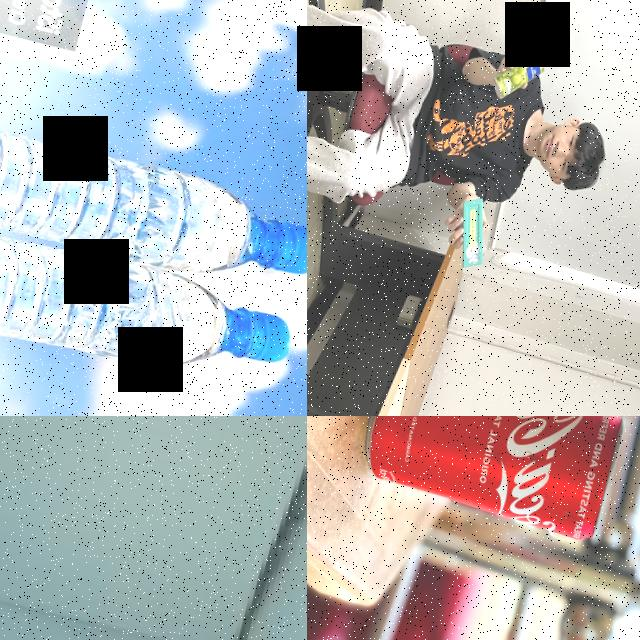bottle: (0, 178, 302, 414), (0, 94, 307, 309)
can: (346, 416, 630, 548), (488, 41, 548, 108)
